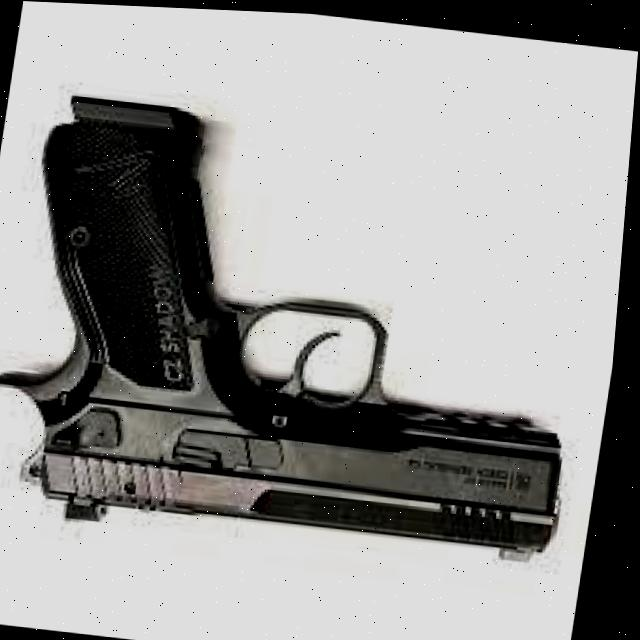gun: (0, 94, 563, 562)
